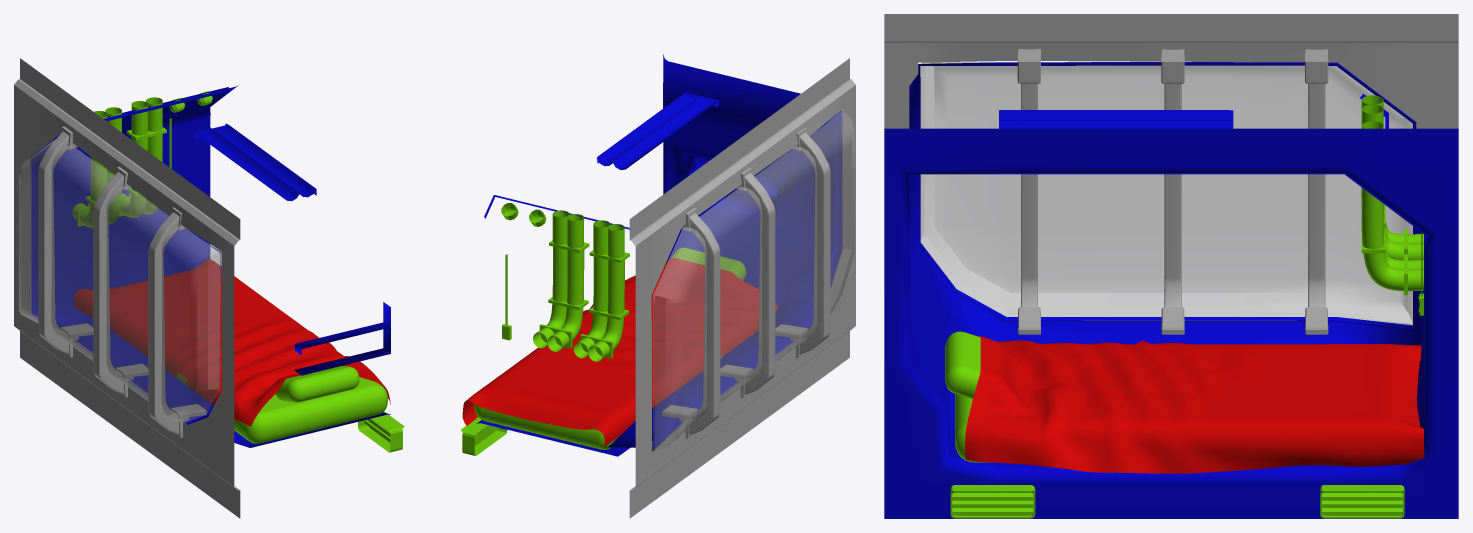
Rendered from Texture_RES_BED_Window.fbx.
3 renders of one model, left to right at view 1: azimuth 30°, elevation 25°; view 2: azimuth 150°, elevation 25°; view 3: azimuth 270°, elevation 25°, orthographic. The views are drawn at different scales.
Visible parts, largest first — view 1: polySurface447, polySurface513; view 2: polySurface447, polySurface513; view 3: polySurface447, polySurface513.
Boxes of the visible parts, x1,y1,x2,y2 form: polySurface447: (19, 85, 404, 452); polySurface513: (14, 58, 240, 518); polySurface447: (461, 54, 854, 456); polySurface513: (629, 58, 855, 518); polySurface447: (884, 62, 1458, 518); polySurface513: (884, 14, 1458, 334).
Bounding box in the file's own units: 240 × 300 × 400.
